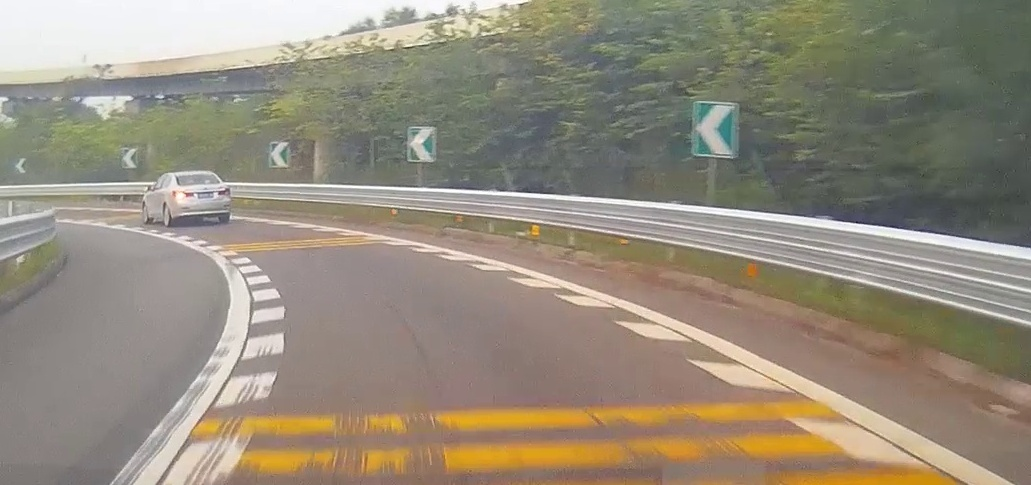L_light: (173, 190, 195, 198)
R_light: (218, 188, 230, 196)
T_light: (192, 173, 201, 175)
day-left: (168, 171, 232, 224)
